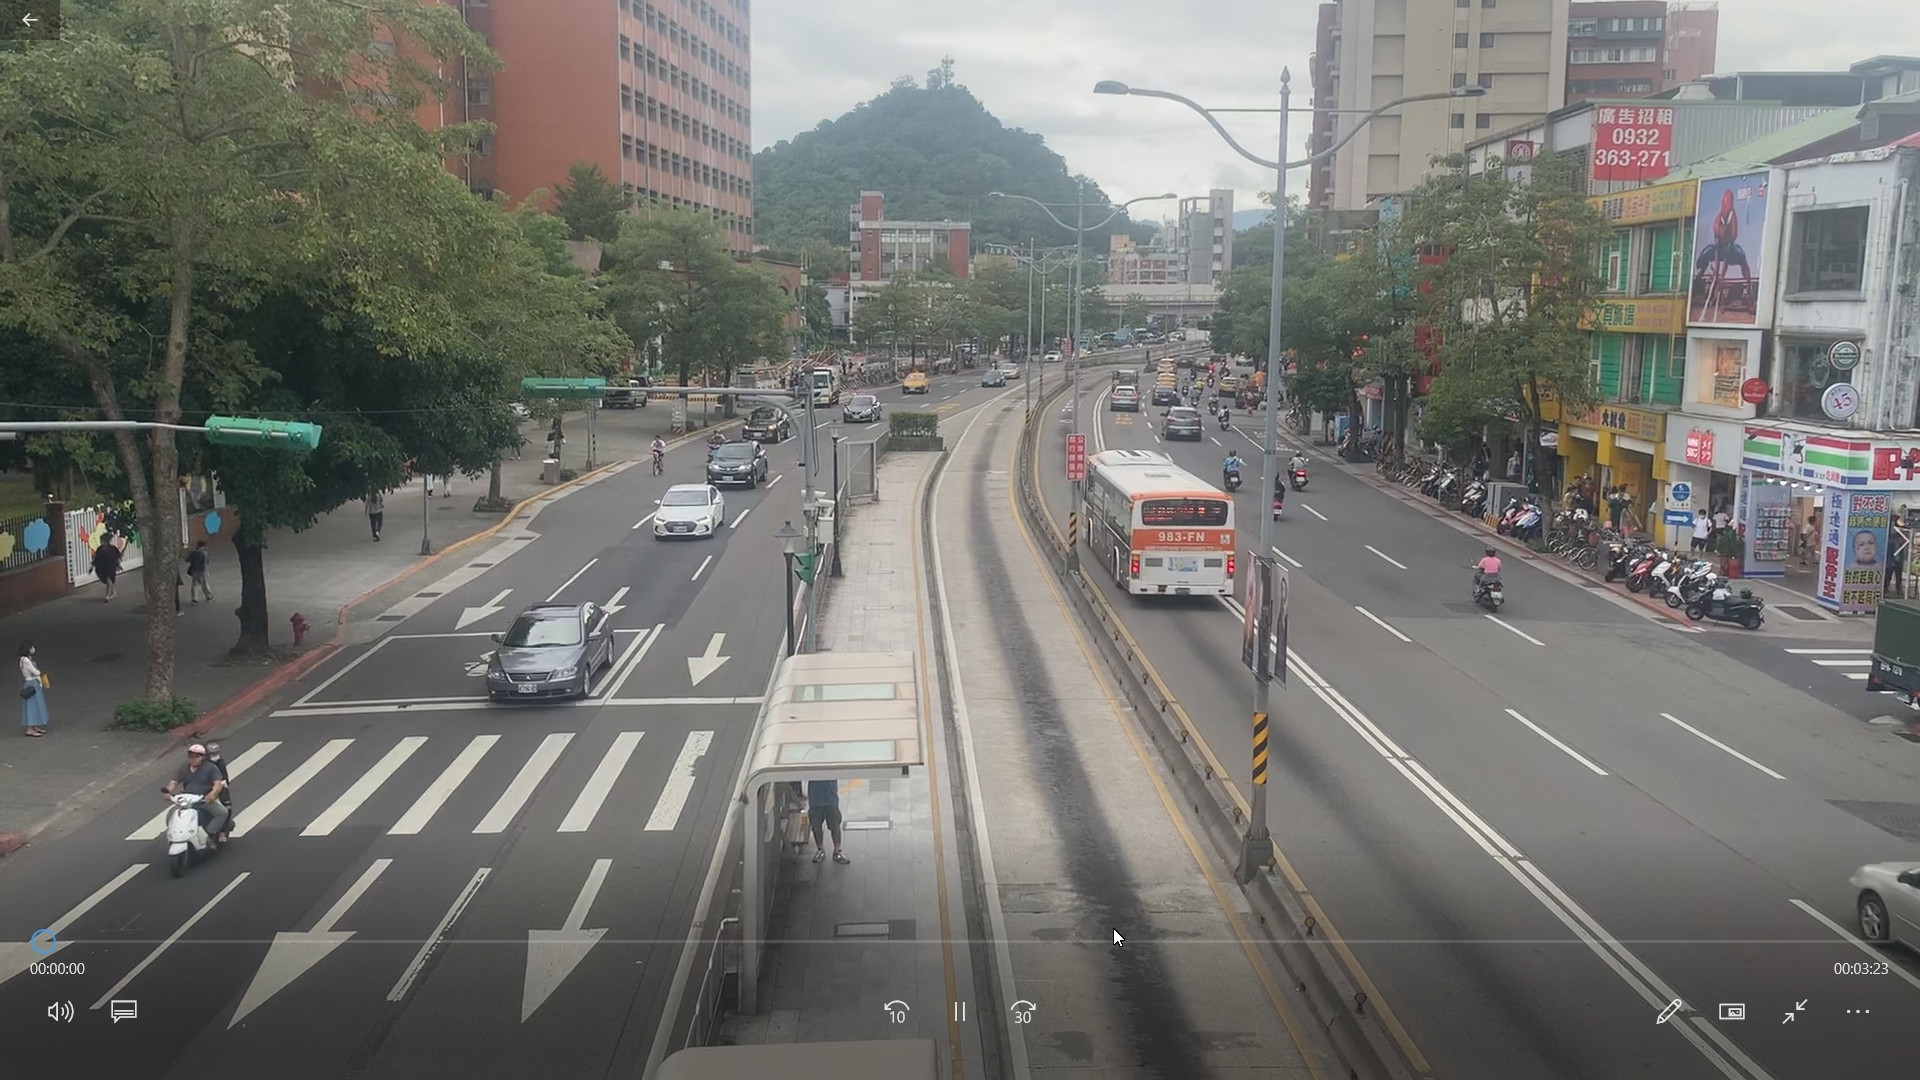Bus: (1072, 442, 1254, 611)
Motorcycle: (146, 733, 243, 876), (1466, 543, 1513, 608), (1217, 443, 1249, 493), (1284, 443, 1313, 497)
Private Passenger Car: (492, 589, 613, 711), (1836, 836, 1920, 953), (646, 475, 724, 541), (702, 433, 770, 496), (1160, 402, 1205, 443), (742, 407, 785, 443), (843, 394, 878, 423), (1106, 382, 1138, 413), (903, 369, 931, 398), (978, 369, 1005, 386)
